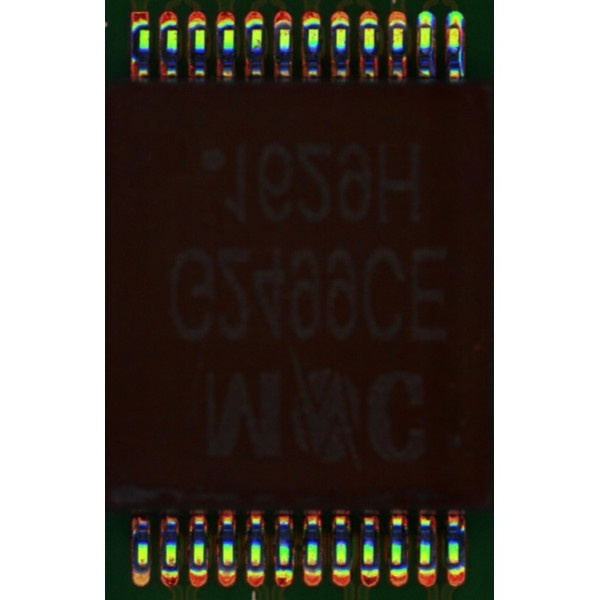Bad_podu: (451, 20, 459, 34)
Bad_qiaojiao: (459, 28, 465, 78)
